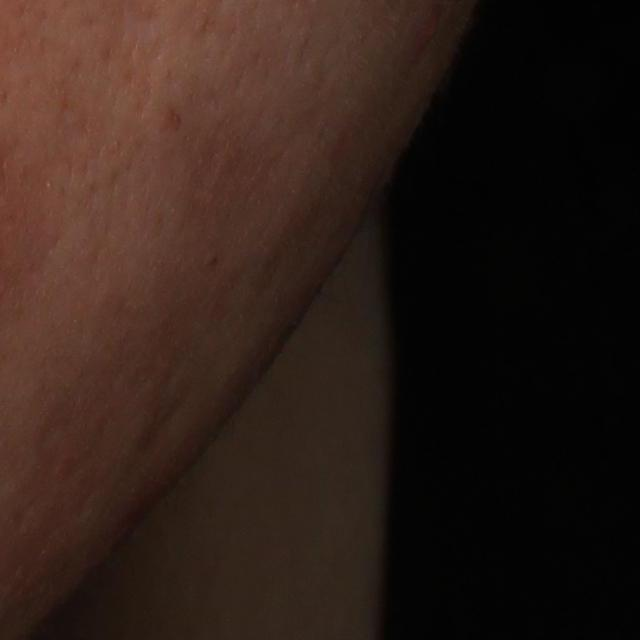papule: (417, 5, 441, 57)
